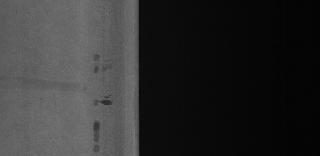oil spot: (90, 54, 114, 72), (89, 118, 101, 154), (90, 95, 116, 110)
